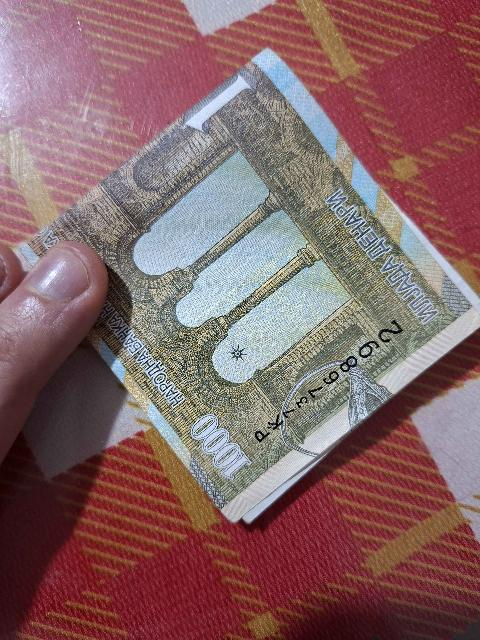1000_note: (22, 51, 479, 520)
